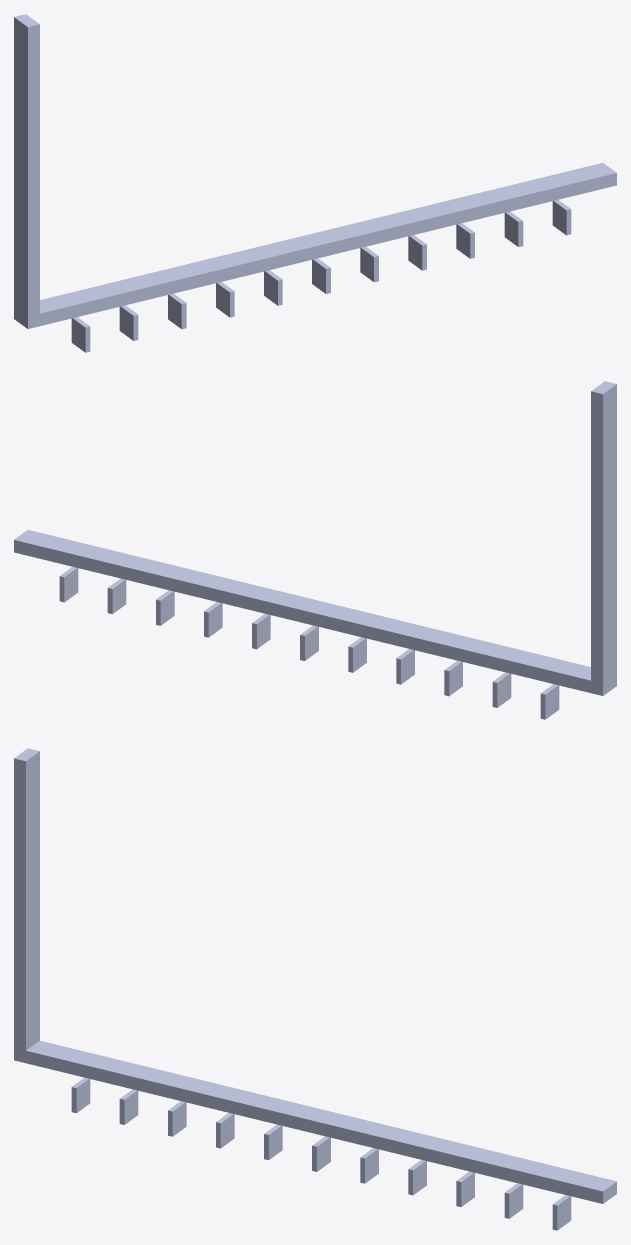
File: LGraphMarked.obj
The picture shows the model from 3 angles, top to bottom: view 1: azimuth 30°, elevation 25°; view 2: azimuth 150°, elevation 25°; view 3: azimuth 330°, elevation 25°; orthographic projection.
Visible parts, largest first — view 1: ig_ManifoldSolidBRep141_DC_Shell, ig_ManifoldSolidBRep453_DC_Shell, ig_ManifoldSolidBRep1181_DC_Shell, ig_ManifoldSolidBRep1285_DC_Shell, ig_ManifoldSolidBRep557_DC_Shell, ig_ManifoldSolidBRep245_DC_Shell, ig_ManifoldSolidBRep349_DC_Shell, ig_ManifoldSolidBRep661_DC_Shell, ig_ManifoldSolidBRep765_DC_Shell, ig_ManifoldSolidBRep869_DC_Shell, ig_ManifoldSolidBRep1077_DC_Shell, ig_ManifoldSolidBRep973_DC_Shell; view 2: ig_ManifoldSolidBRep141_DC_Shell, ig_ManifoldSolidBRep453_DC_Shell, ig_ManifoldSolidBRep1181_DC_Shell, ig_ManifoldSolidBRep1285_DC_Shell, ig_ManifoldSolidBRep557_DC_Shell, ig_ManifoldSolidBRep245_DC_Shell, ig_ManifoldSolidBRep349_DC_Shell, ig_ManifoldSolidBRep661_DC_Shell, ig_ManifoldSolidBRep765_DC_Shell, ig_ManifoldSolidBRep869_DC_Shell, ig_ManifoldSolidBRep1077_DC_Shell, ig_ManifoldSolidBRep973_DC_Shell; view 3: ig_ManifoldSolidBRep141_DC_Shell.
Boxes of the visible parts, x1,y1,x2,y2 form: ig_ManifoldSolidBRep141_DC_Shell: (14, 14, 616, 328); ig_ManifoldSolidBRep453_DC_Shell: (71, 317, 90, 352); ig_ManifoldSolidBRep1181_DC_Shell: (504, 211, 523, 246); ig_ManifoldSolidBRep1285_DC_Shell: (552, 199, 571, 235); ig_ManifoldSolidBRep557_DC_Shell: (119, 305, 138, 340); ig_ManifoldSolidBRep245_DC_Shell: (168, 293, 186, 329); ig_ManifoldSolidBRep349_DC_Shell: (216, 282, 234, 317); ig_ManifoldSolidBRep661_DC_Shell: (264, 270, 282, 305); ig_ManifoldSolidBRep765_DC_Shell: (312, 258, 330, 293); ig_ManifoldSolidBRep869_DC_Shell: (360, 246, 378, 282); ig_ManifoldSolidBRep1077_DC_Shell: (456, 223, 474, 258); ig_ManifoldSolidBRep973_DC_Shell: (408, 235, 426, 270); ig_ManifoldSolidBRep141_DC_Shell: (14, 381, 616, 695); ig_ManifoldSolidBRep453_DC_Shell: (540, 684, 559, 719); ig_ManifoldSolidBRep1181_DC_Shell: (107, 578, 126, 613); ig_ManifoldSolidBRep1285_DC_Shell: (59, 566, 78, 602); ig_ManifoldSolidBRep557_DC_Shell: (492, 672, 511, 707); ig_ManifoldSolidBRep245_DC_Shell: (444, 660, 462, 696); ig_ManifoldSolidBRep349_DC_Shell: (396, 649, 414, 684); ig_ManifoldSolidBRep661_DC_Shell: (348, 637, 366, 672); ig_ManifoldSolidBRep765_DC_Shell: (300, 625, 318, 660); ig_ManifoldSolidBRep869_DC_Shell: (252, 613, 270, 649); ig_ManifoldSolidBRep1077_DC_Shell: (156, 590, 174, 625); ig_ManifoldSolidBRep973_DC_Shell: (204, 602, 222, 637); ig_ManifoldSolidBRep141_DC_Shell: (14, 748, 616, 1203).
Bounding box in the file's own units: 12.25 × 6.75 × 0.5.
